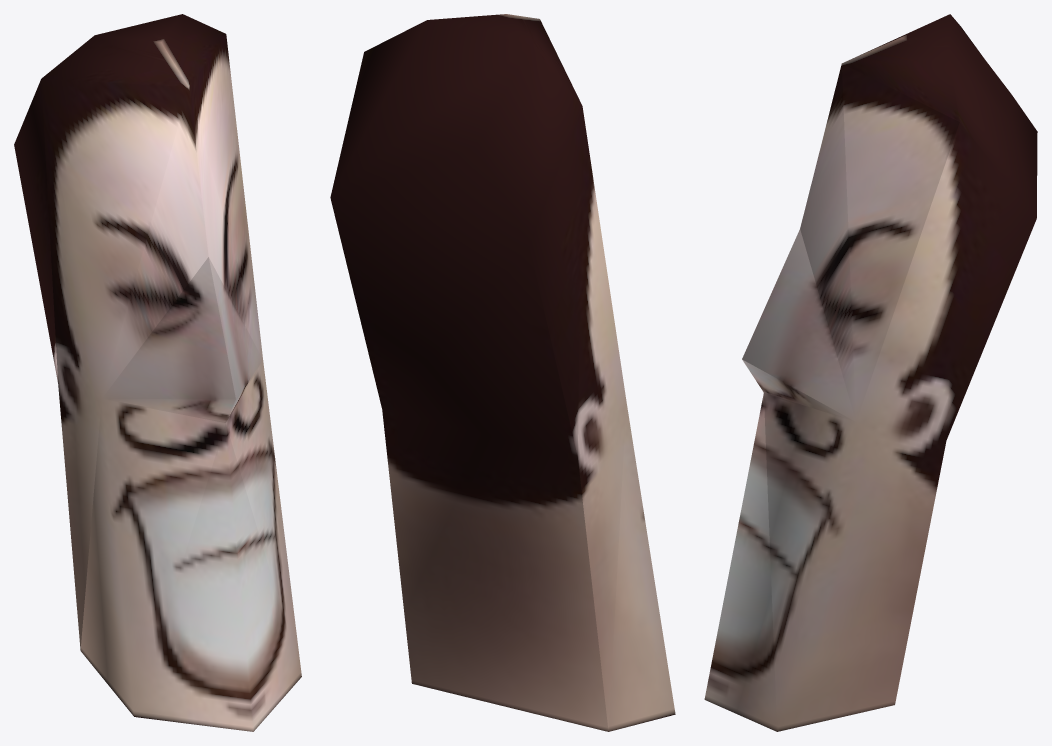
The picture shows the model from 3 angles, left to right: view 1: azimuth 30°, elevation 25°; view 2: azimuth 150°, elevation 25°; view 3: azimuth 270°, elevation 25°; orthographic projection. The views are drawn at different scales.
Parts seen in each view (by area): view 1: movershaker; view 2: movershaker; view 3: movershaker.
Boxes of the visible parts, left/top/right/bottom form: movershaker: left=14, top=14, right=301, bottom=731; movershaker: left=330, top=14, right=675, bottom=731; movershaker: left=704, top=14, right=1037, bottom=731.
Size of the model in its own units: 0.6944 by 2.24 by 1.02.
Materials: 1 (1 with a texture image).
